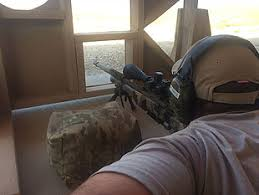Gun: (95, 61, 181, 121)
